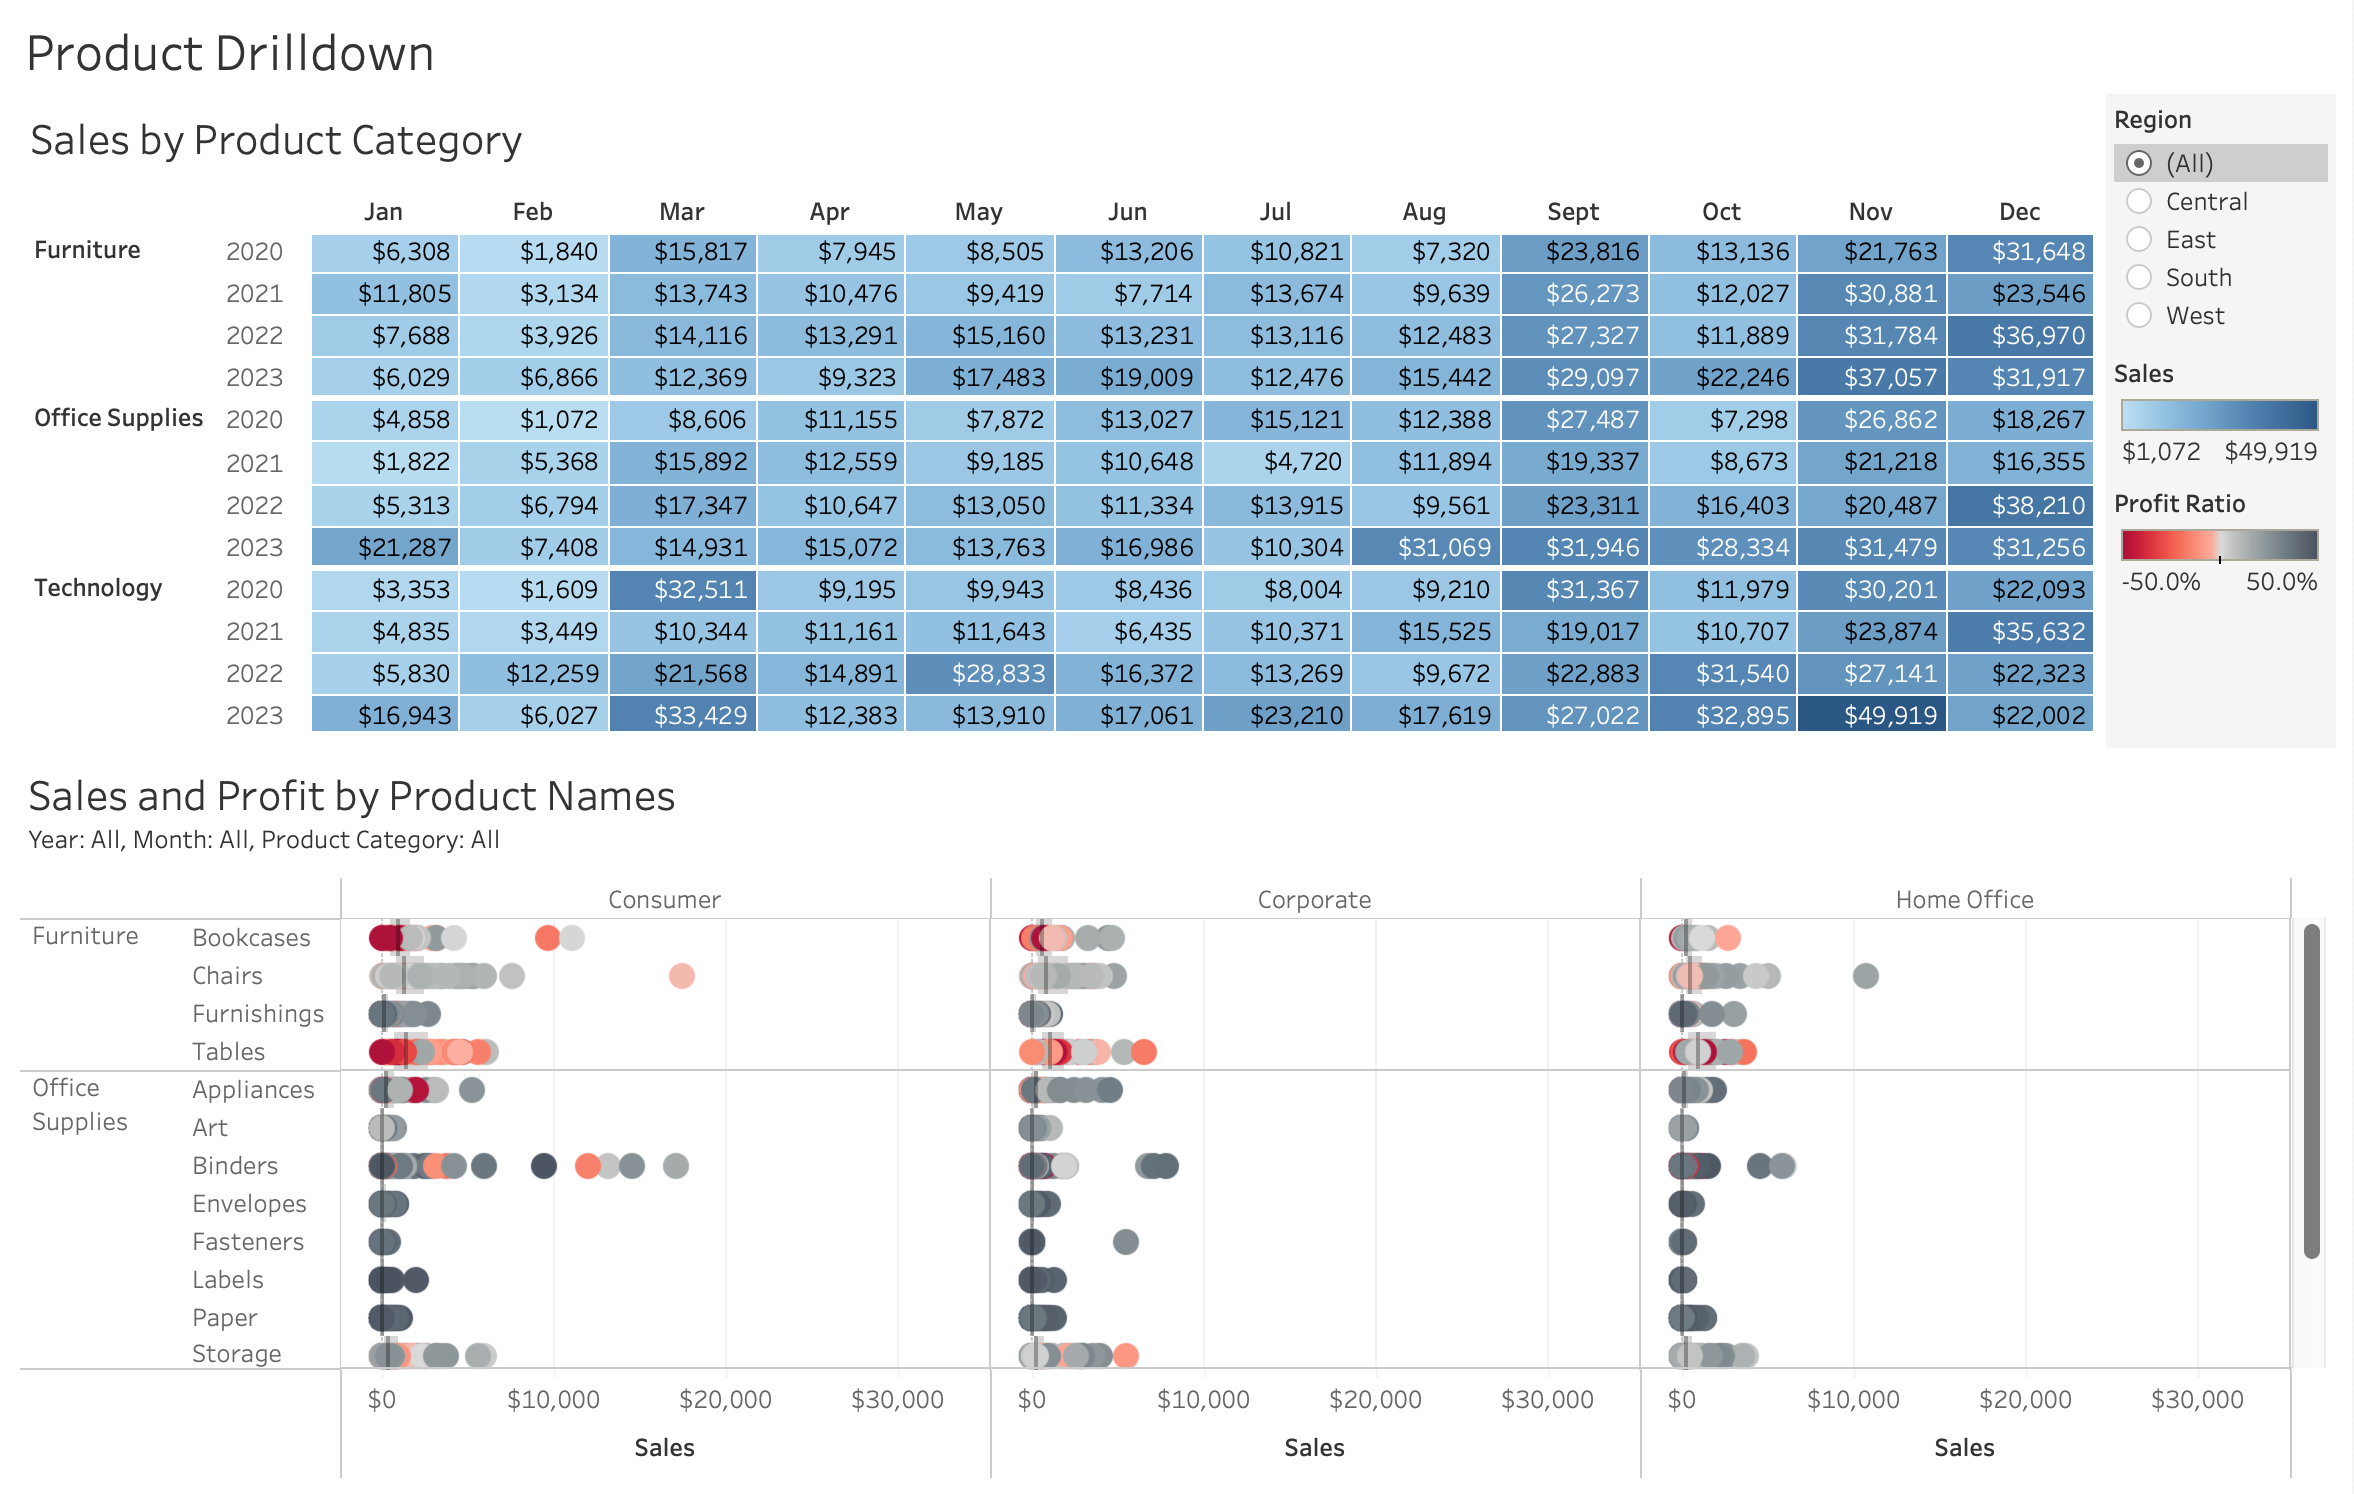

Layout of this report page (visuals, bound fields, positions):
{"tool":"tableau","page":{"name":"Product","canvas":[1000,1000],"units":"permille","ordinal":3},"visuals":[{"type":"title","box":[6.8,10.6,986.4,55.6]},{"type":"worksheet","title":"Product View","mark":"Square","rows":["Category","Order Date"],"cols":["Order Date"],"box":[6.8,66.2,888.8,433.8]},{"type":"filter","title":"Product View","param":"[Sample - Superstore].[none:Region:nk]","box":[895.6,66.2,97.7,168.2]},{"type":"legend","title":"Product View","param":"[Sample - Superstore].[sum:Sales:qk]","box":[895.6,234.5,97.7,86.1]},{"type":"legend","title":"ProductDetails","param":"[Sample - Superstore].[usr:Calculation_3004252807550980096:qk]","box":[895.6,320.6,97.7,86.1]},{"type":"worksheet","title":"ProductDetails","mark":"Circle","rows":["Category","Sub-Category"],"cols":["Segment","Sales"],"box":[6.8,500,986.4,489.4]}]}

Visuals, with their boxes on the dashboard's canvas, which has no fixed pixel size, in thousandths of its width and height (x1, y1, x2, y2). These are canvas units, not pixel positions in the 2354x1494 screenshot, which may show the page scaled, cropped or inside an application window:
title: <region>7, 11, 993, 66</region>
"Product View" worksheet (Square marks): <region>7, 66, 896, 500</region>
"Product View" filter: <region>896, 66, 993, 234</region>
"Product View" legend: <region>896, 234, 993, 321</region>
"ProductDetails" legend: <region>896, 321, 993, 407</region>
"ProductDetails" worksheet (Circle marks): <region>7, 500, 993, 989</region>
